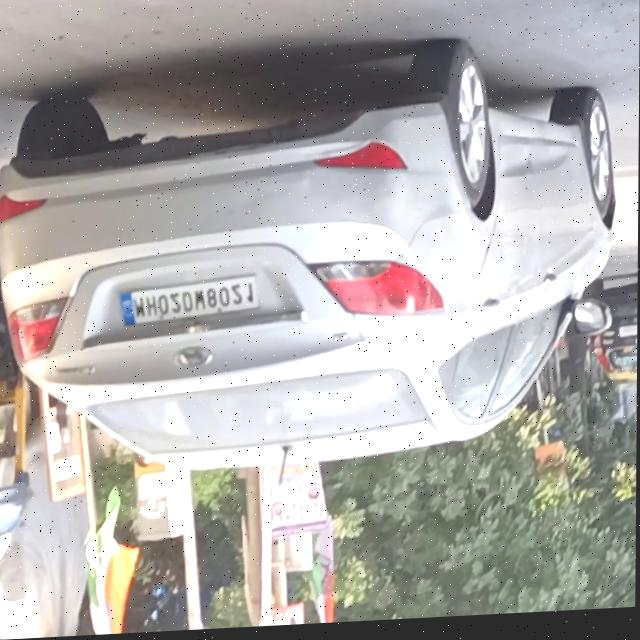plate: (119, 273, 260, 329)
